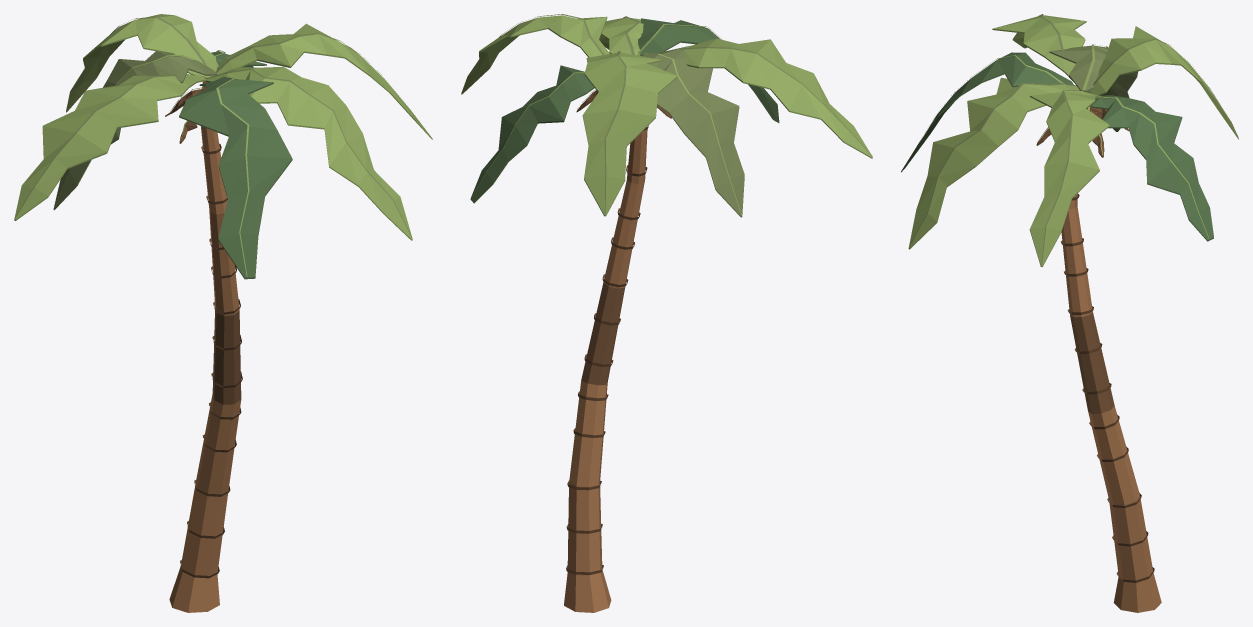
Rendered from prop_palm_young.glb.
3 views of the same model, side by side, from view 1: azimuth 30°, elevation 25°; view 2: azimuth 150°, elevation 25°; view 3: azimuth 270°, elevation 25° (orthographic). The views are drawn at different scales.
Visible parts, largest first — view 1: prop_palm_young__Wild palm frond 05, prop_palm_young__Wild palm frond 04, prop_palm_young__Wild palm frond 06, prop_palm_young__Wild palm frond 02, prop_palm_young__Wild palm frond 00, prop_palm_young__Bent trunk segment 01, prop_palm_young__Bent trunk segment 02, prop_palm_young__Wild palm frond 03, prop_palm_young__Bent trunk segment 03, prop_palm_young__Bent trunk segment 04, prop_palm_young__Bent trunk segment 00, prop_palm_young__Bent trunk segment 05; view 2: prop_palm_young__Wild palm frond 02, prop_palm_young__Wild palm frond 03, prop_palm_young__Wild palm frond 04, prop_palm_young__Wild palm frond 01, prop_palm_young__Wild palm frond 00, prop_palm_young__Bent trunk segment 02, prop_palm_young__Bent trunk segment 01, prop_palm_young__Bent trunk segment 03, prop_palm_young__Wild palm frond 05, prop_palm_young__Bent trunk segment 04, prop_palm_young__Bent trunk segment 00, prop_palm_young__Wild palm frond 06 (+1 smaller); view 3: prop_palm_young__Wild palm frond 06, prop_palm_young__Wild palm frond 00, prop_palm_young__Wild palm frond 01, prop_palm_young__Wild palm frond 02, prop_palm_young__Bent trunk segment 02, prop_palm_young__Wild palm frond 04, prop_palm_young__Bent trunk segment 01, prop_palm_young__Bent trunk segment 03, prop_palm_young__Wild palm frond 05, prop_palm_young__Bent trunk segment 04, prop_palm_young__Wild palm frond 03, prop_palm_young__Bent trunk segment 00.
Boxes of the visible parts, x1,y1,x2,y2 form: prop_palm_young__Wild palm frond 05: [179, 77, 292, 279]; prop_palm_young__Wild palm frond 04: [14, 74, 206, 220]; prop_palm_young__Wild palm frond 06: [206, 66, 412, 240]; prop_palm_young__Wild palm frond 02: [66, 14, 216, 112]; prop_palm_young__Wild palm frond 00: [216, 23, 432, 139]; prop_palm_young__Bent trunk segment 01: [181, 482, 228, 575]; prop_palm_young__Bent trunk segment 02: [196, 394, 241, 494]; prop_palm_young__Wild palm frond 03: [53, 51, 217, 210]; prop_palm_young__Bent trunk segment 03: [212, 308, 241, 404]; prop_palm_young__Bent trunk segment 04: [209, 210, 239, 316]; prop_palm_young__Bent trunk segment 00: [169, 565, 219, 612]; prop_palm_young__Bent trunk segment 05: [201, 126, 227, 214]; prop_palm_young__Wild palm frond 02: [582, 52, 677, 216]; prop_palm_young__Wild palm frond 03: [639, 46, 744, 217]; prop_palm_young__Wild palm frond 04: [684, 38, 872, 158]; prop_palm_young__Wild palm frond 01: [470, 65, 594, 203]; prop_palm_young__Wild palm frond 00: [461, 15, 609, 94]; prop_palm_young__Bent trunk segment 02: [569, 380, 607, 486]; prop_palm_young__Bent trunk segment 01: [567, 483, 602, 575]; prop_palm_young__Bent trunk segment 03: [581, 283, 625, 385]; prop_palm_young__Wild palm frond 05: [638, 18, 779, 122]; prop_palm_young__Bent trunk segment 04: [603, 180, 644, 288]; prop_palm_young__Bent trunk segment 00: [564, 570, 611, 612]; prop_palm_young__Wild palm frond 06: [599, 17, 643, 55]; prop_palm_young__Wild palm frond 06: [908, 77, 1079, 249]; prop_palm_young__Wild palm frond 00: [1029, 91, 1109, 266]; prop_palm_young__Wild palm frond 01: [1090, 95, 1213, 241]; prop_palm_young__Wild palm frond 02: [1088, 26, 1238, 139]; prop_palm_young__Bent trunk segment 02: [1088, 406, 1139, 504]; prop_palm_young__Wild palm frond 04: [992, 15, 1086, 81]; prop_palm_young__Bent trunk segment 01: [1109, 495, 1152, 583]; prop_palm_young__Bent trunk segment 03: [1070, 312, 1114, 413]; prop_palm_young__Wild palm frond 05: [901, 52, 1073, 172]; prop_palm_young__Bent trunk segment 04: [1061, 206, 1092, 317]; prop_palm_young__Wild palm frond 03: [1049, 45, 1138, 131]; prop_palm_young__Bent trunk segment 00: [1113, 573, 1161, 612].
Bounding box in the file's own units: 4.11 × 5.44 × 3.06.
